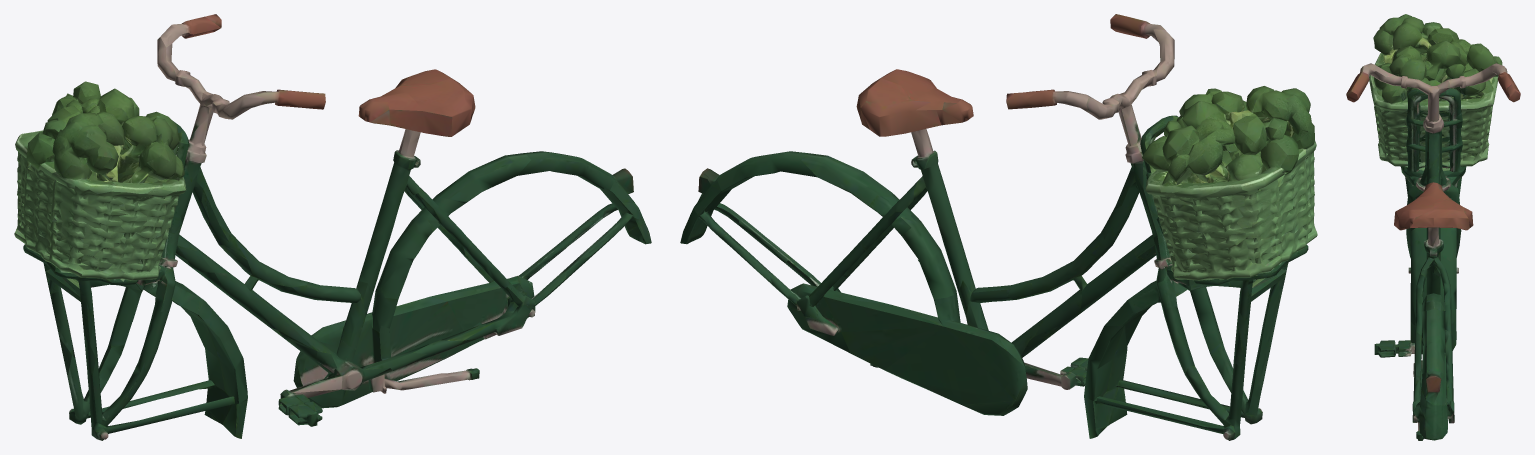
File: getkong-bike2.glb
3 views of the same model, side by side, from view 1: azimuth 30°, elevation 25°; view 2: azimuth 150°, elevation 25°; view 3: azimuth 270°, elevation 25° (orthographic). The views are drawn at different scales.
Visible parts, largest first — view 1: output_unwrapped; view 2: output_unwrapped; view 3: output_unwrapped.
Boxes of the visible parts, x1,y1,x2,y2 form: output_unwrapped: (14, 14, 651, 440); output_unwrapped: (680, 14, 1317, 440); output_unwrapped: (1346, 14, 1520, 440).
Size of the model in its own units: 1.9 by 1.13 by 0.6181.
1 material, 1 textured.
